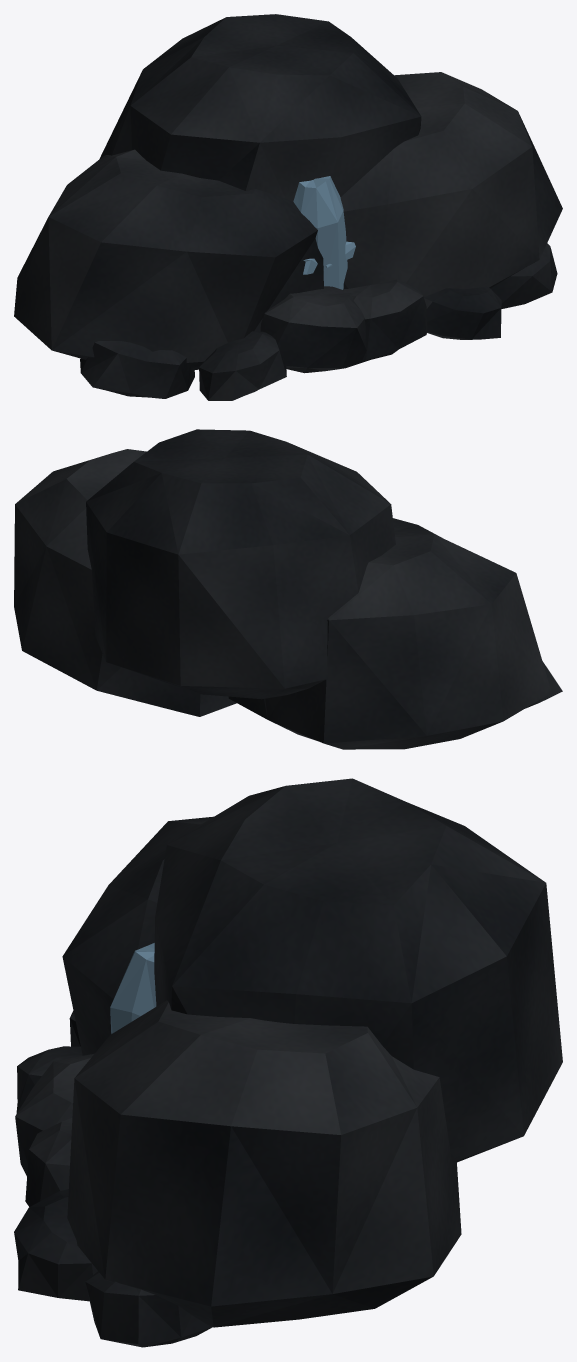
The model's file is SuperdenseDepositB.fbx.
3 views of the same model, one above another, from view 1: azimuth 30°, elevation 25°; view 2: azimuth 150°, elevation 25°; view 3: azimuth 270°, elevation 25° (orthographic). The views are drawn at different scales.
Parts seen in each view (by area): view 1: Superdense_Deposit_A_LOD0; view 2: Superdense_Deposit_A_LOD0; view 3: Superdense_Deposit_A_LOD0.
Boxes of the visible parts, x1,y1,x2,y2 form: Superdense_Deposit_A_LOD0: [14, 14, 562, 400]; Superdense_Deposit_A_LOD0: [14, 429, 562, 749]; Superdense_Deposit_A_LOD0: [14, 778, 562, 1347].
Size of what is drawn, in the model's own units: 40934 by 19744 by 25167.
